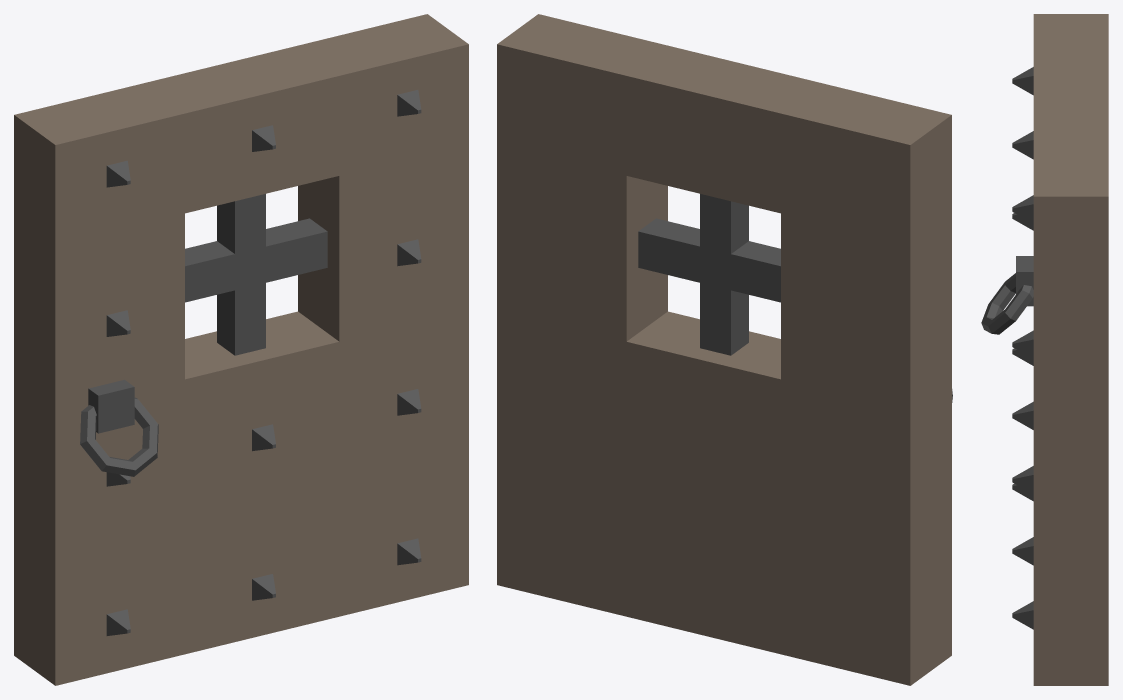
File: Door_08.fbx
3 views of the same model, side by side, from view 1: azimuth 30°, elevation 25°; view 2: azimuth 150°, elevation 25°; view 3: azimuth 270°, elevation 25° (orthographic). The views are drawn at different scales.
Visible parts, largest first — view 1: Door_08; view 2: Door_08; view 3: Door_08.
Boxes of the visible parts, bbox=[...] form: Door_08: bbox=[14, 14, 468, 685]; Door_08: bbox=[497, 14, 952, 685]; Door_08: bbox=[981, 14, 1108, 685].
Bounding box in the file's own units: 1.6 × 2 × 0.4718.
